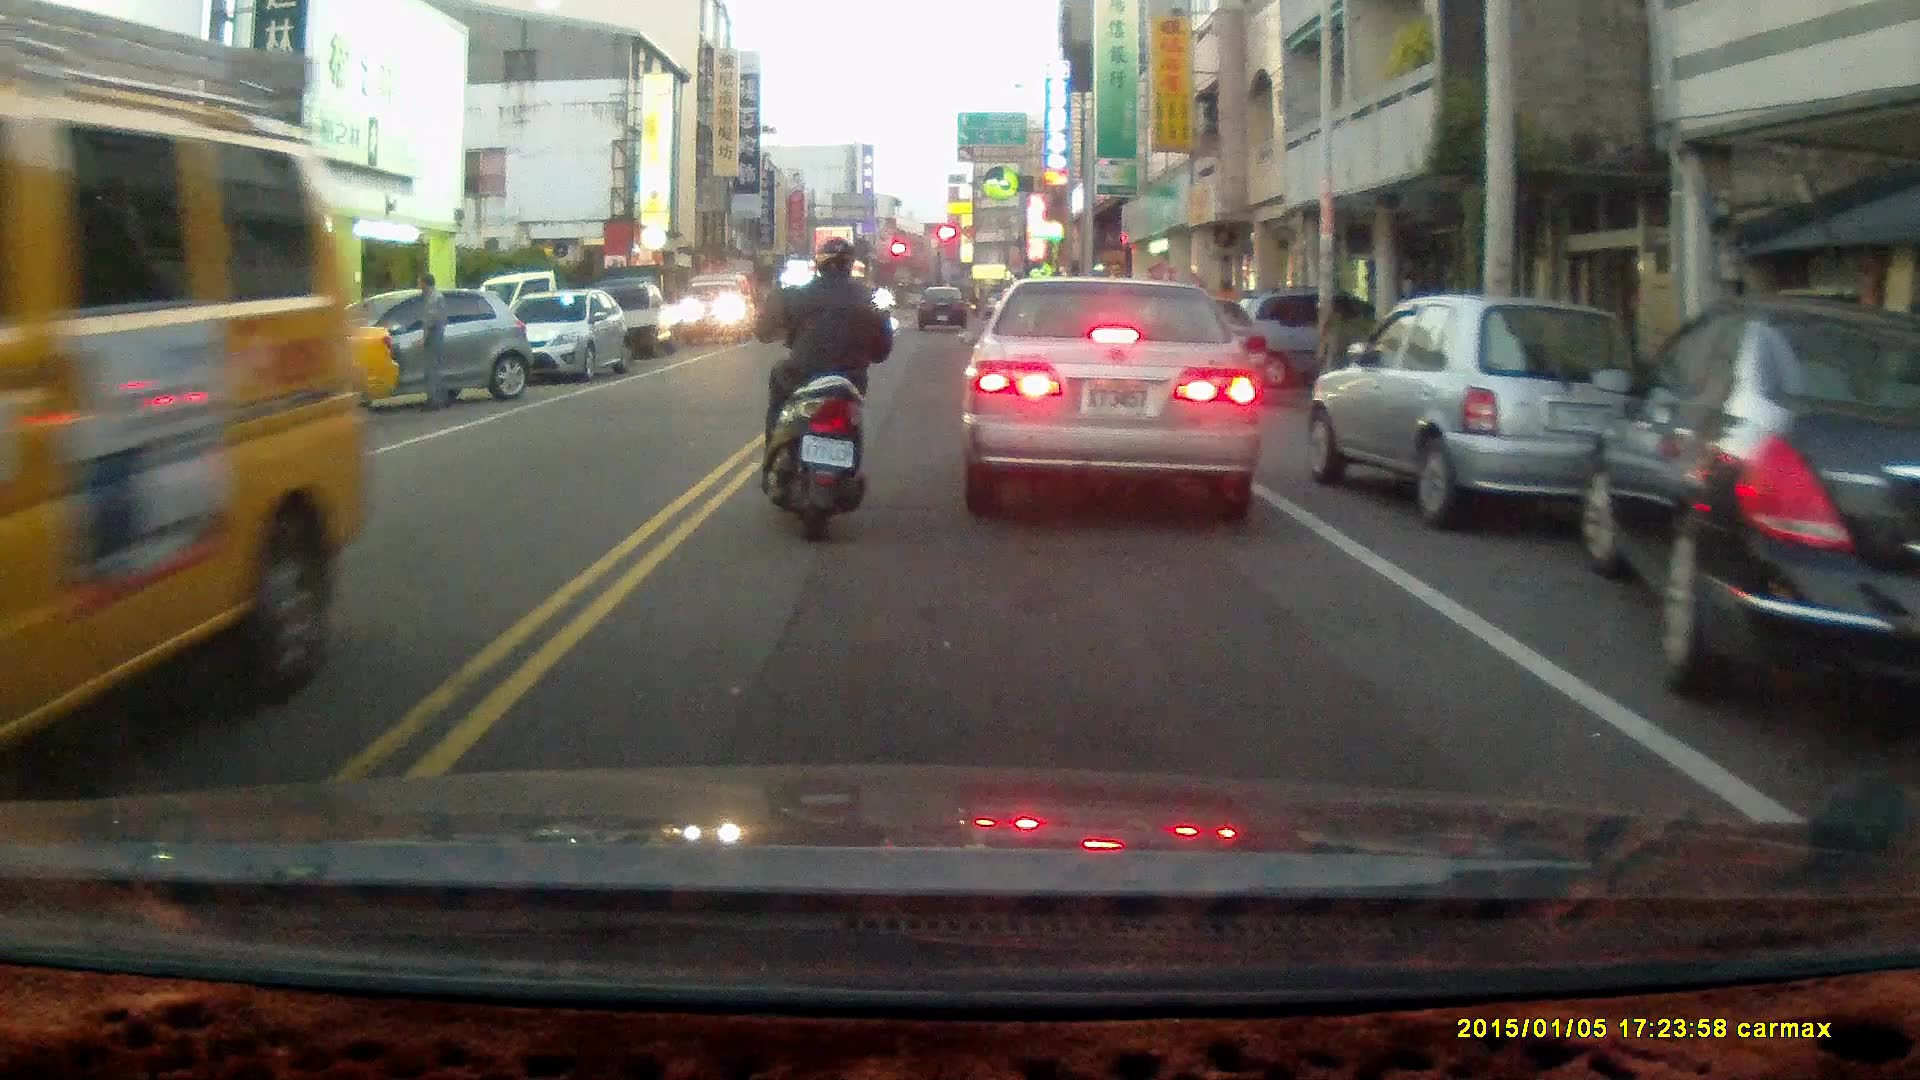pedestrian: (406, 271, 451, 416)
rider: (764, 237, 908, 548)
vehicle: (1, 34, 371, 800), (1576, 297, 1920, 732), (1306, 297, 1650, 534), (961, 274, 1266, 517), (57, 295, 412, 454), (312, 281, 530, 408), (512, 286, 637, 385), (677, 274, 763, 343)
